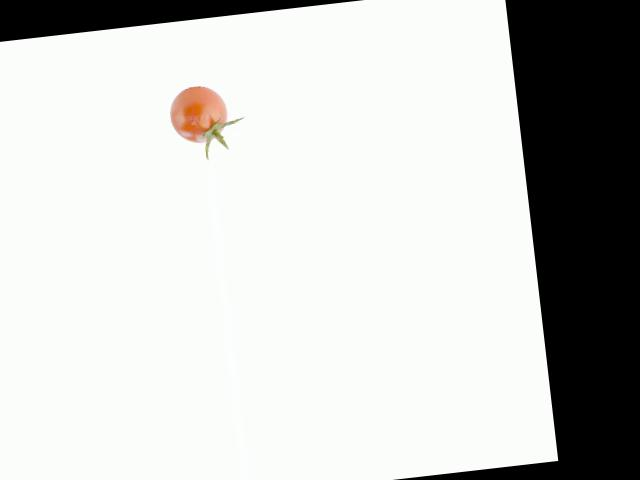tomato: (166, 82, 228, 145)
